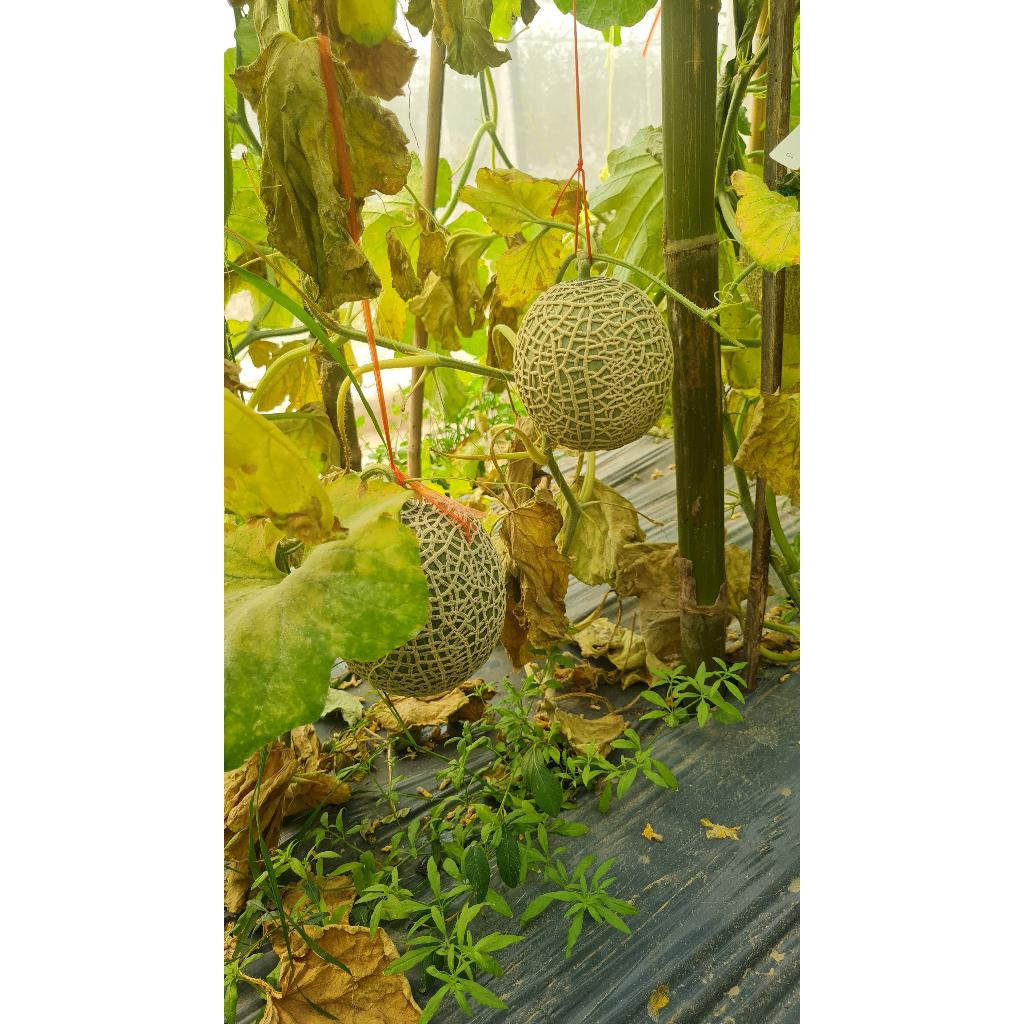melon: (350, 498, 506, 698), (514, 276, 674, 450)
